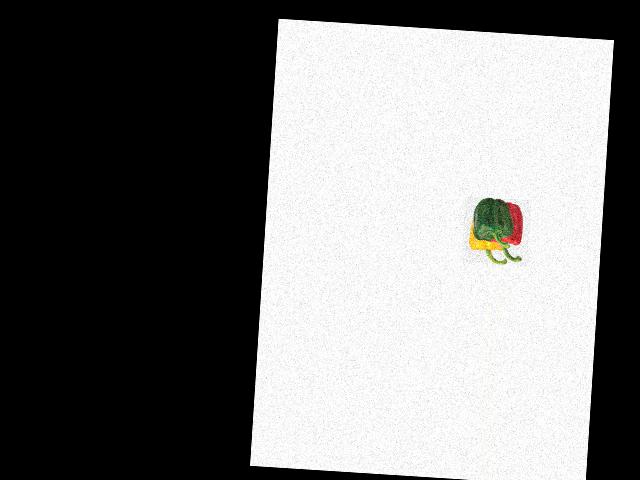bell_pepper: (490, 199, 532, 264)
